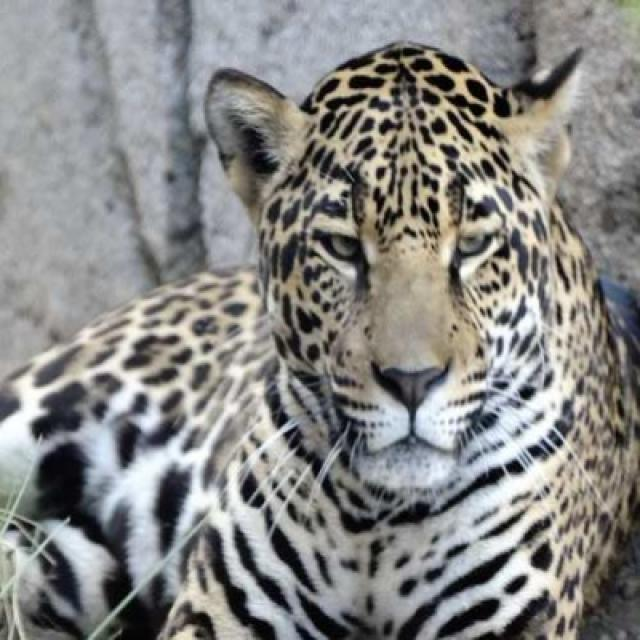Jaguar: (0, 42, 638, 638)
